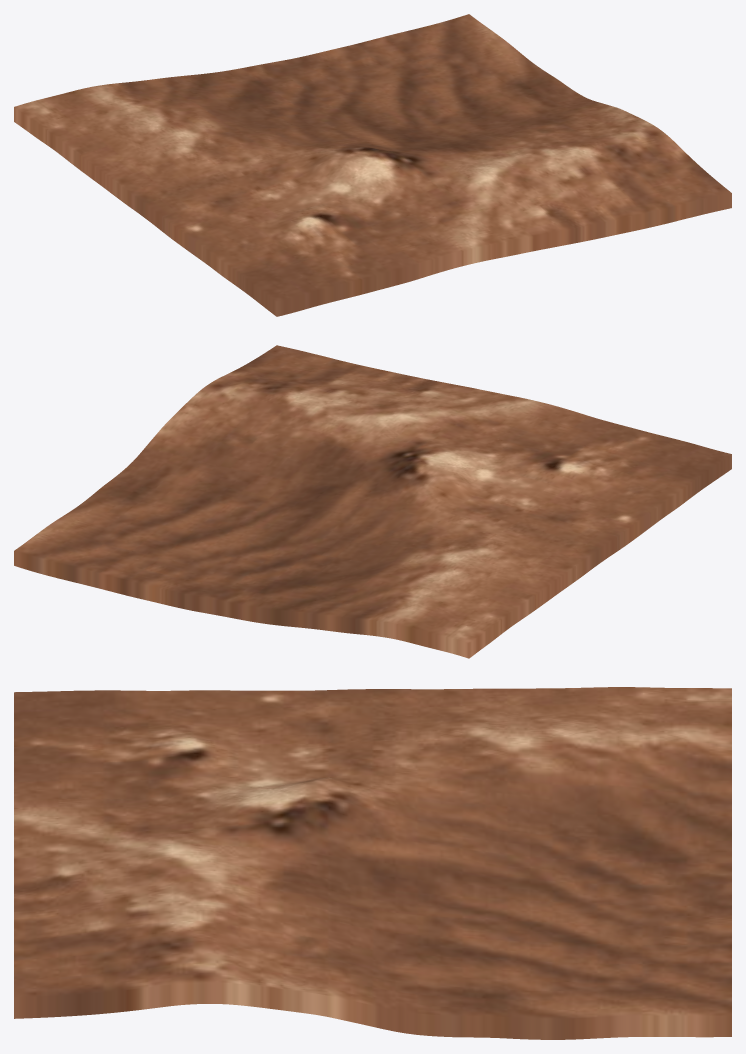
3 views of the same model, one above another, from view 1: azimuth 30°, elevation 25°; view 2: azimuth 150°, elevation 25°; view 3: azimuth 270°, elevation 25° (orthographic). The views are drawn at different scales.
Visible parts, largest first — view 1: L8_136_115; view 2: L8_136_115; view 3: L8_136_115.
Boxes of the visible parts, x1,y1,x2,y2 form: L8_136_115: (14,14,731,316); L8_136_115: (14,345,731,658); L8_136_115: (14,687,731,1039).
Bounding box in the file's own units: 56.27 × 6.19 × 56.28.
1 material, 1 textured.
